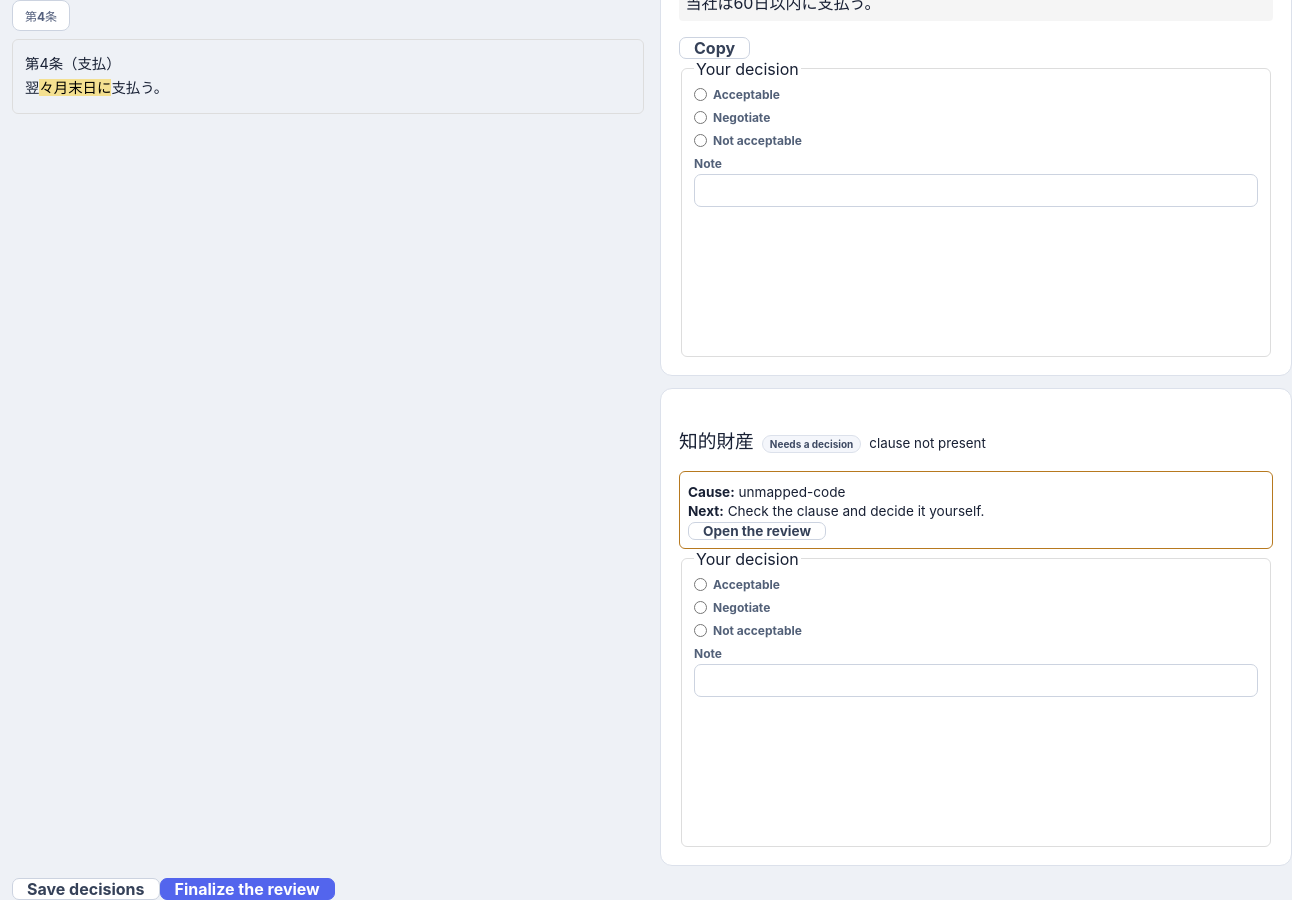
Test case: ReviewStep: 人の判断と確定 › 正常: 未保存の判断があれば先に保存してから確定し、確定を親へ知らせる
The width and height of the screenshot is (1292, 900).
(page scrolled)
Type "メモだけ" into the field labelled "Note" below "Check the clause and decide it yourself.".
click(976, 681); type("メモだけ")  # box [694,664,1258,697]
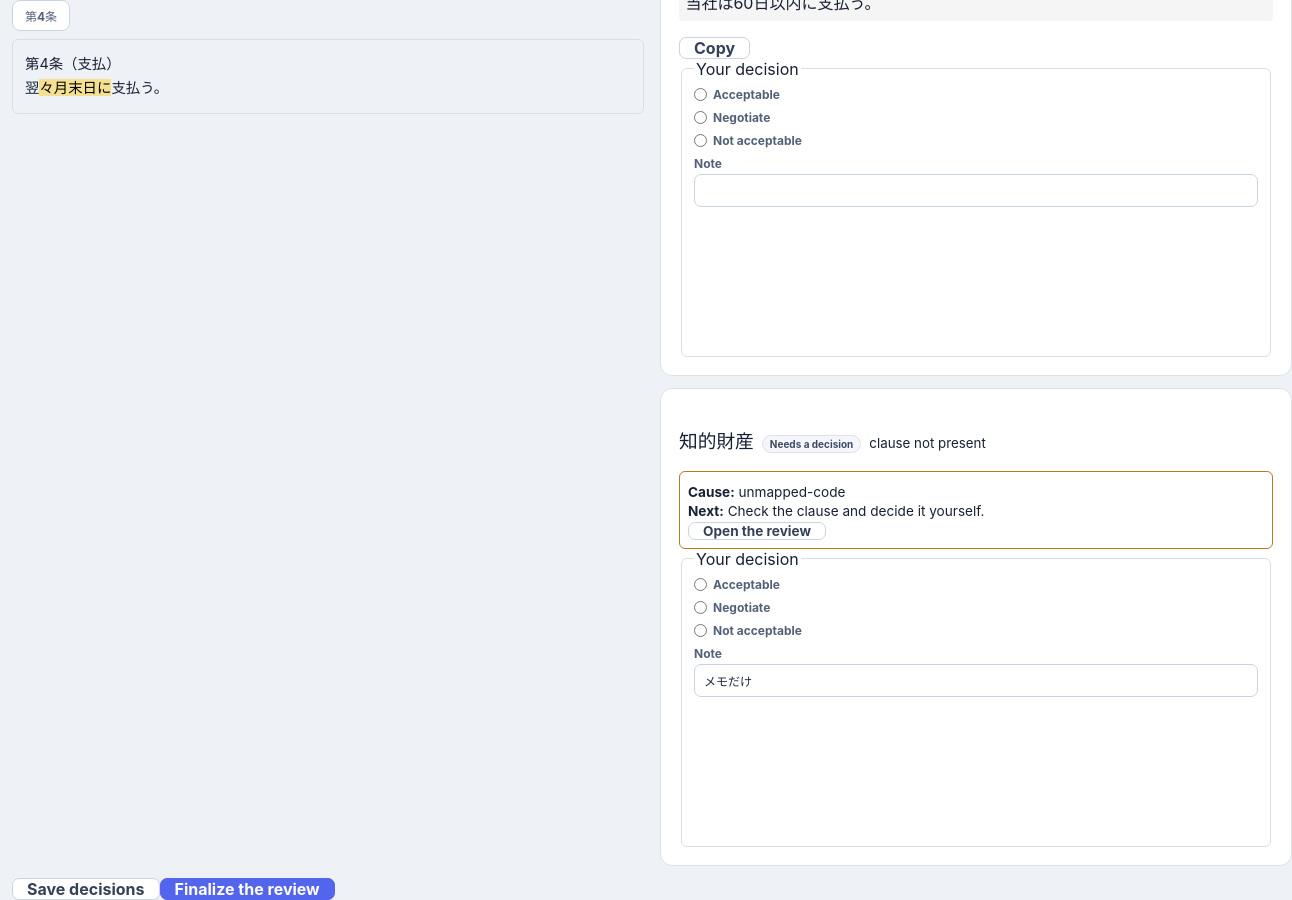
Click the button "Finalize the review".
click(247, 889)  # box [160,878,335,899]
(page scrolled)
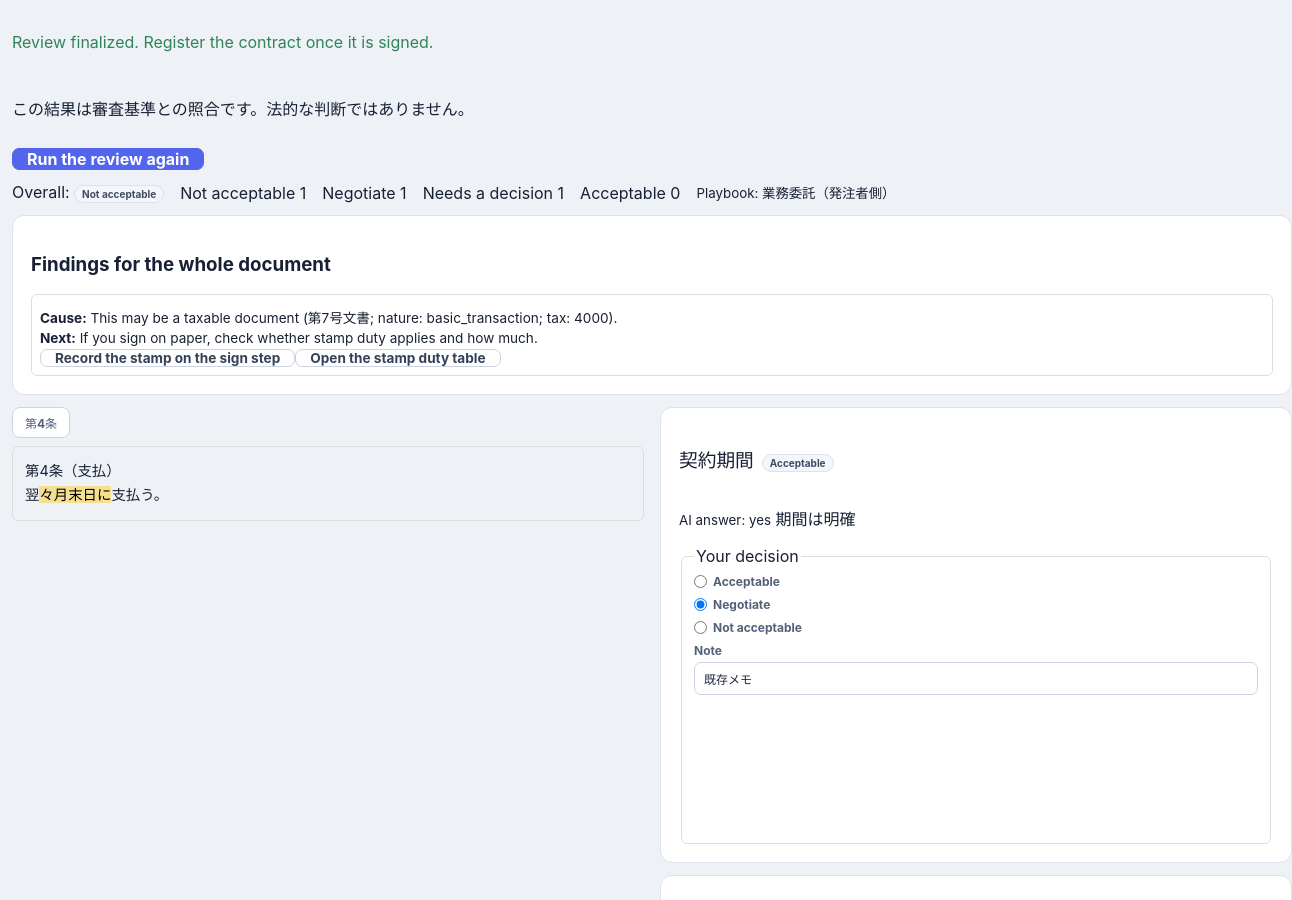
Expected: the text "Review finalized. Register the contract once it is signed." is shown, [12,32,434,52]
